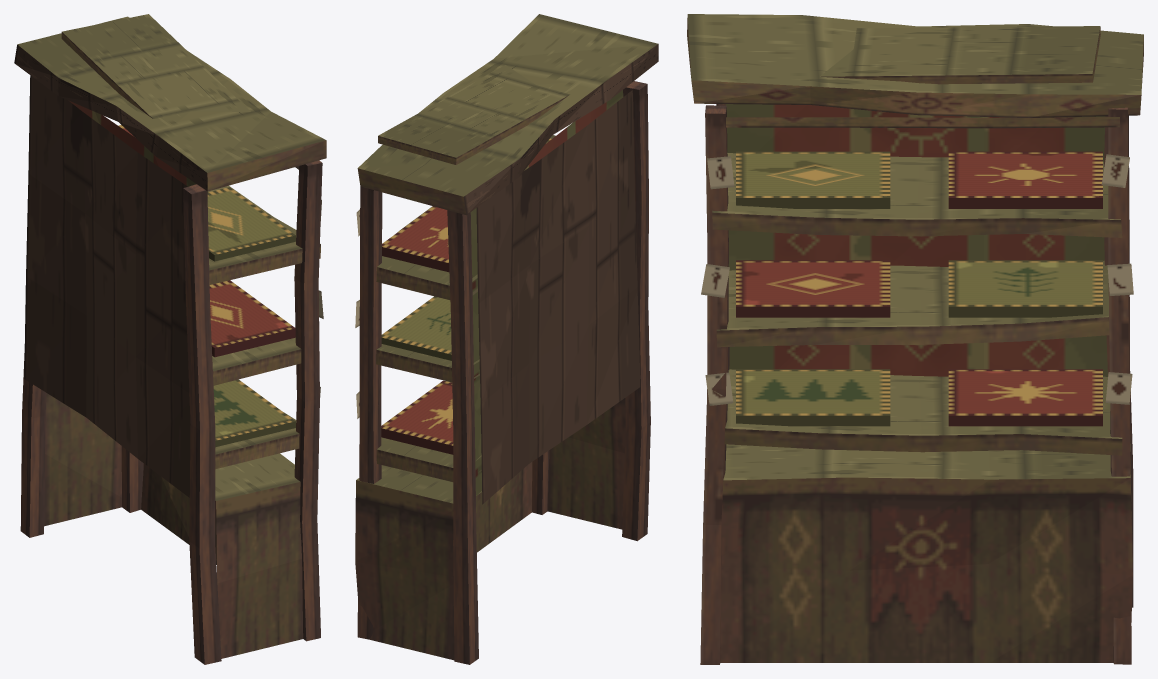
The model's file is SM_DisplayCase.fbx.
3 views of the same model, side by side, from view 1: azimuth 30°, elevation 25°; view 2: azimuth 150°, elevation 25°; view 3: azimuth 270°, elevation 25° (orthographic). The views are drawn at different scales.
Visible parts, largest first — view 1: Display_Visual, Display_SlotPad_4, Display_SlotPad_6, Display_SlotPad_2; view 2: Display_Visual, Display_SlotPad_1, Display_SlotPad_3, Display_SlotPad_5; view 3: Display_Visual, Display_SlotPad_4, Display_SlotPad_1, Display_SlotPad_5, Display_SlotPad_6, Display_SlotPad_3, Display_SlotPad_2.
Boxes of the visible parts, x1,y1,x2,y2 form: Display_Visual: (14,14,326,664); Display_SlotPad_4: (209,280,295,357); Display_SlotPad_6: (207,187,295,261); Display_SlotPad_2: (213,379,295,447); Display_Visual: (355,14,658,664); Display_SlotPad_1: (381,380,453,454); Display_SlotPad_3: (381,296,451,360); Display_SlotPad_5: (382,206,449,272); Display_Visual: (687,14,1143,664); Display_SlotPad_4: (736,260,890,317); Display_SlotPad_1: (948,369,1102,426); Display_SlotPad_5: (948,151,1102,208); Display_SlotPad_6: (736,151,890,208); Display_SlotPad_3: (948,260,1102,317); Display_SlotPad_2: (736,369,890,426).
Bounding box in the file's own units: 0.5037 × 1.89 × 1.33.
